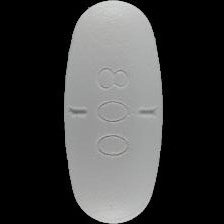0093-8305: (0, 0, 224, 224)
